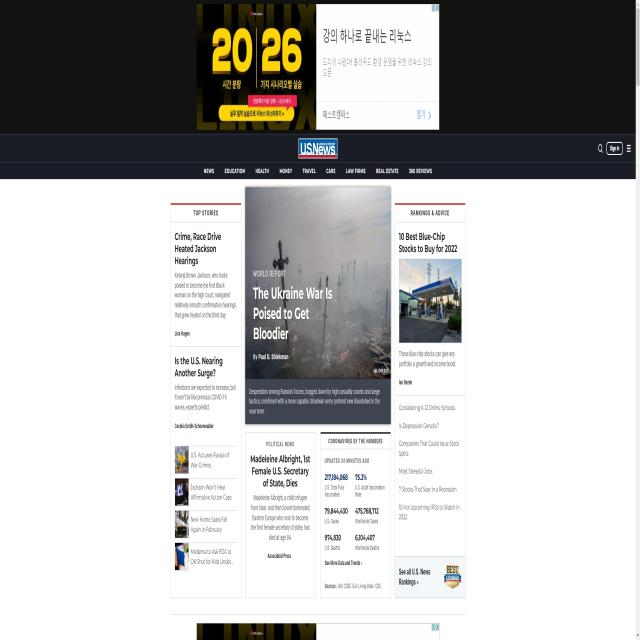menu-bar: (594, 135, 635, 161)
side-panel: (168, 198, 244, 595), (395, 201, 466, 555)
tab-bar: (202, 161, 433, 181)
